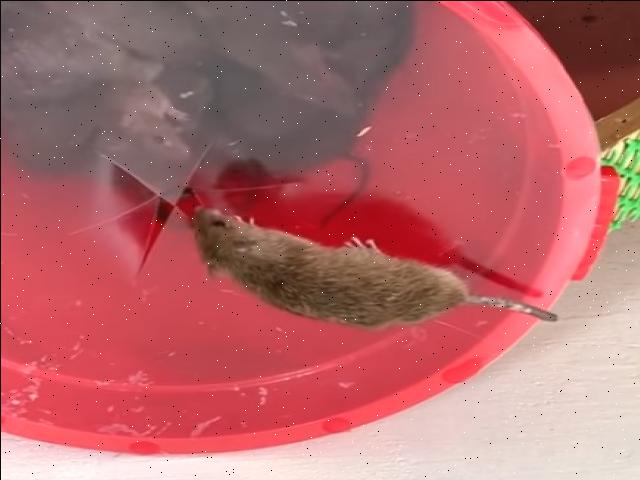Tikus: (192, 206, 558, 326)
